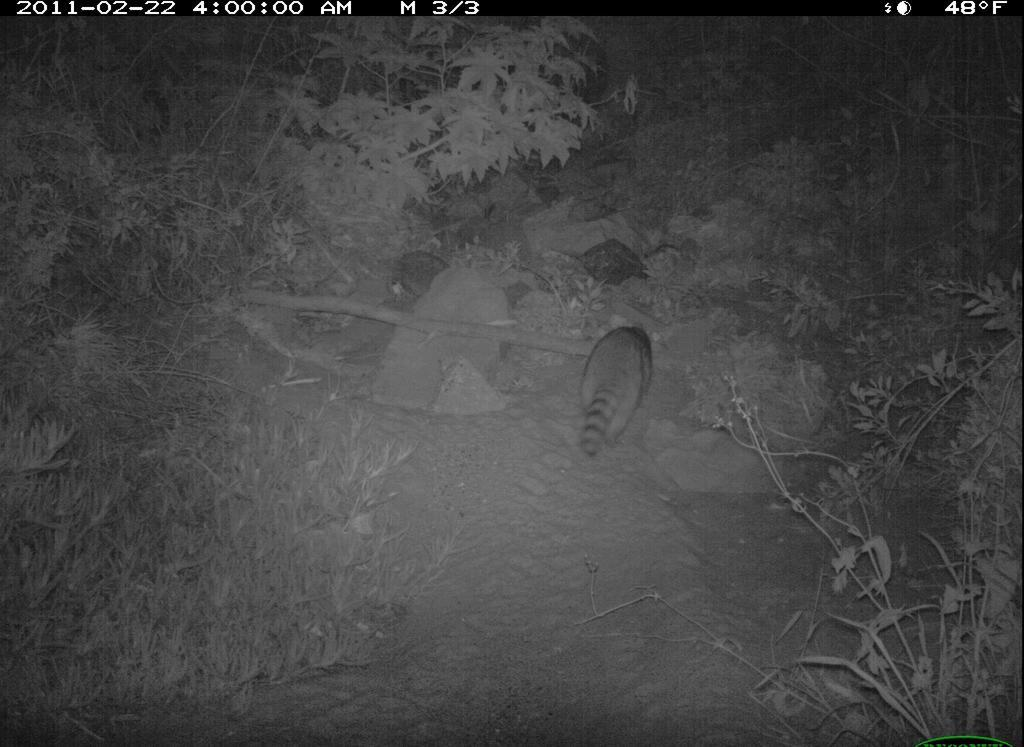raccoon: (561, 315, 660, 469)
